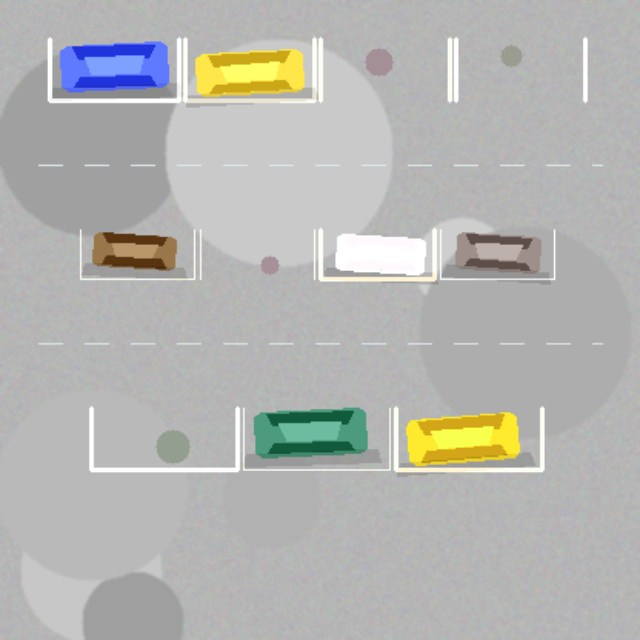space-empty: (91, 408, 237, 469), (455, 38, 585, 100), (320, 38, 449, 100), (200, 229, 314, 278)
space-occupied: (395, 408, 542, 469), (243, 408, 389, 469), (49, 38, 178, 100), (185, 38, 314, 100), (80, 229, 194, 278), (320, 229, 434, 278), (440, 229, 554, 278)
